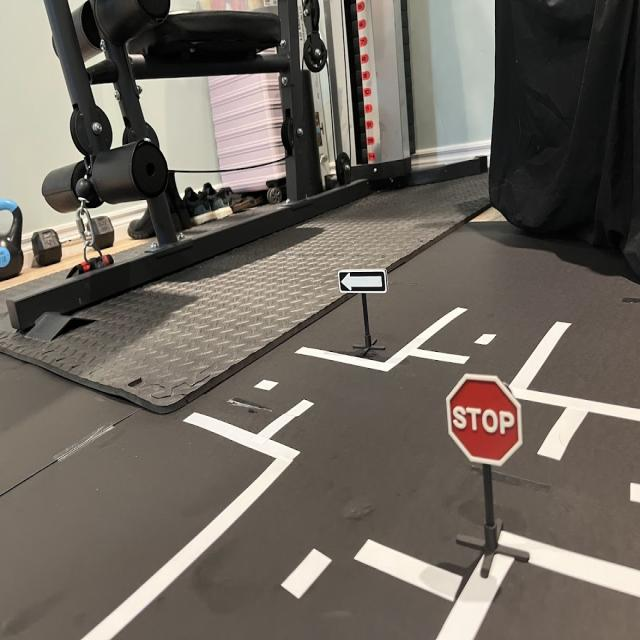sign_oneway_left: (336, 267, 390, 296)
sign_stop: (449, 378, 522, 464)
